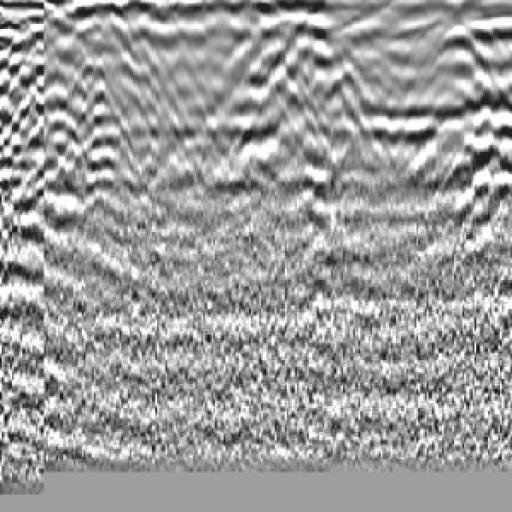non-metallic: (390, 21, 512, 255)
